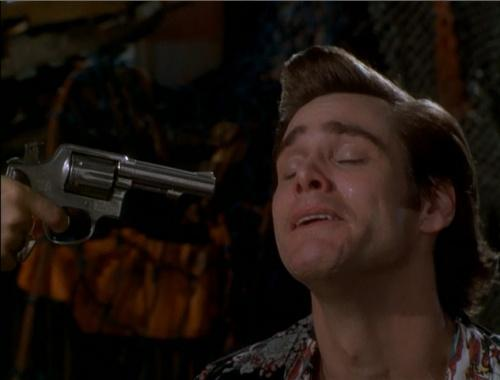Gun: (5, 142, 217, 248)
